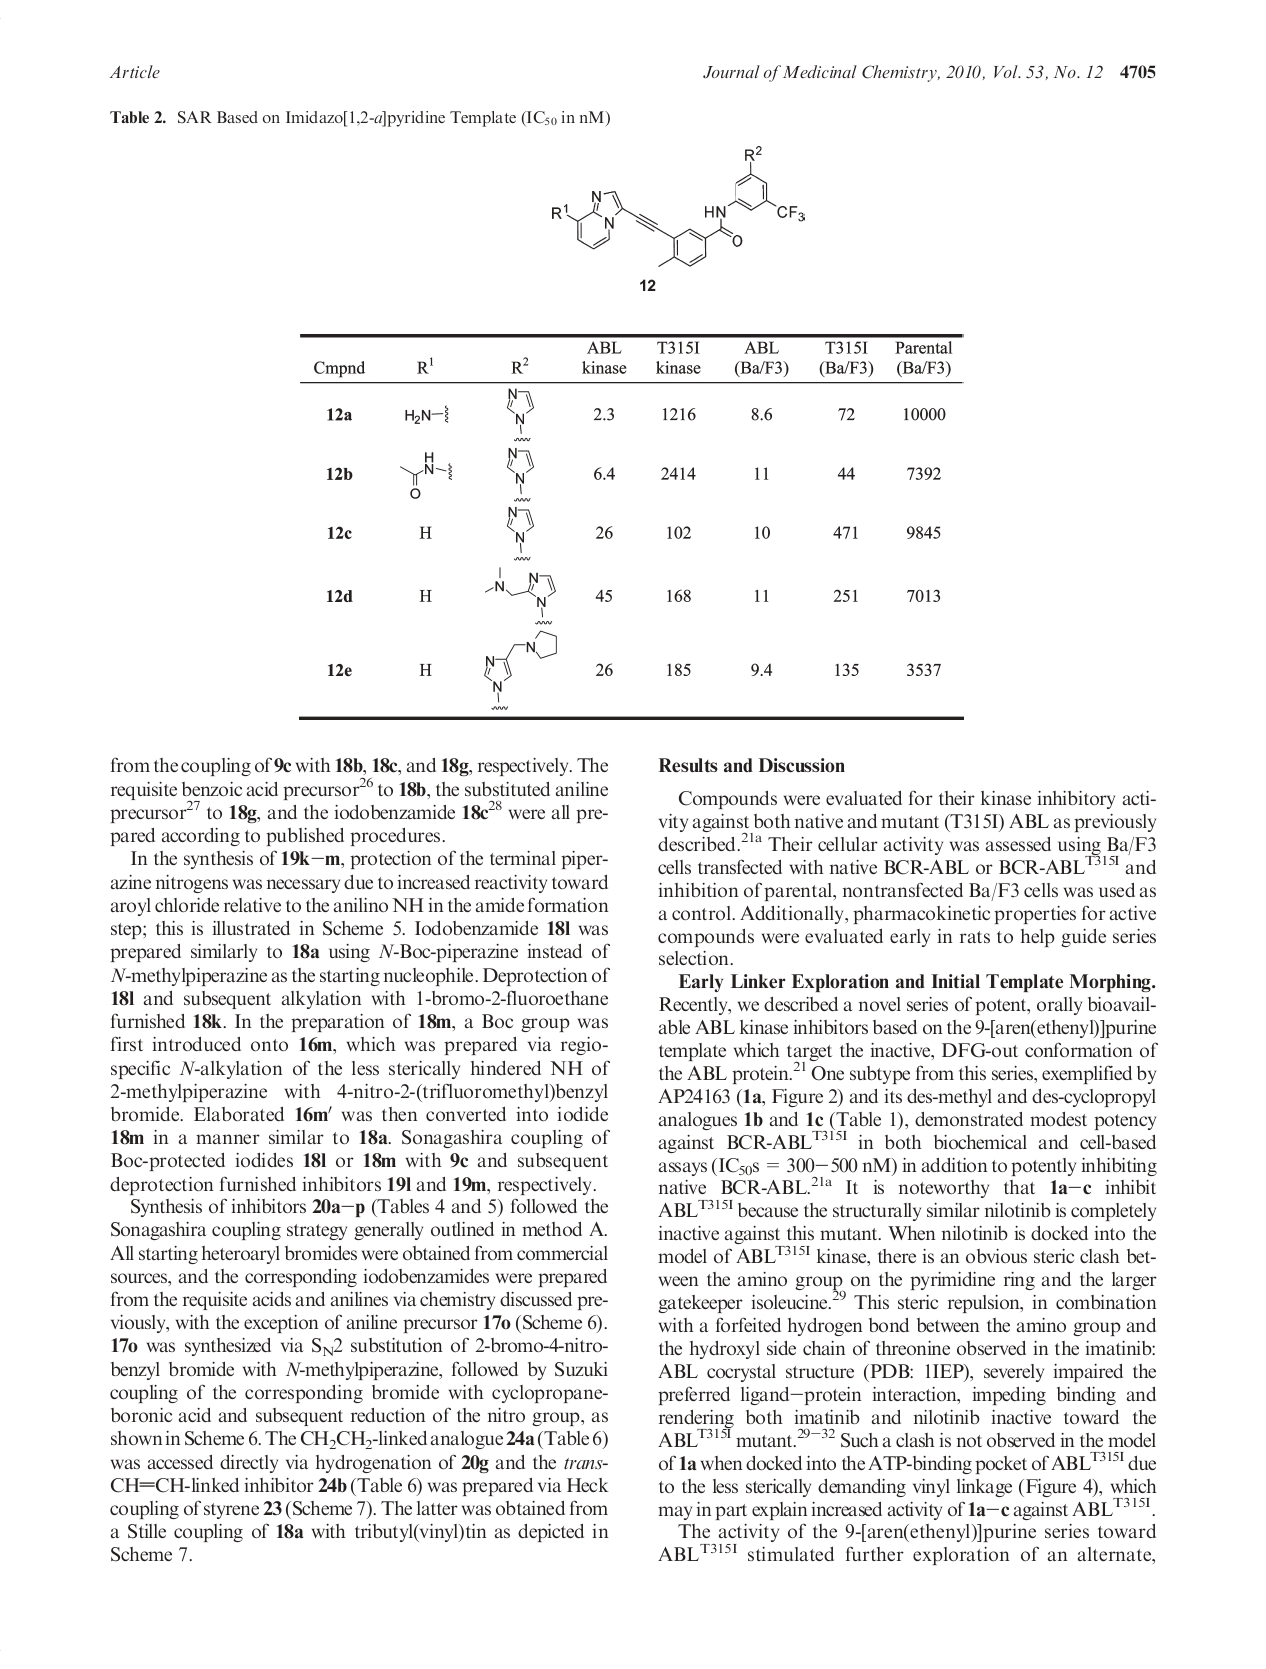exist_molecular: (547, 144, 807, 270), (483, 630, 567, 713), (484, 564, 560, 626), (398, 449, 453, 501), (505, 501, 539, 564), (504, 387, 537, 442), (507, 446, 536, 504), (402, 404, 451, 430)
